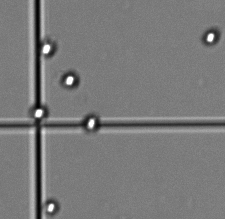Living Cell: (60, 69, 79, 89), (82, 113, 100, 133), (202, 27, 219, 48), (39, 39, 56, 58), (31, 104, 48, 121), (43, 198, 60, 215)
